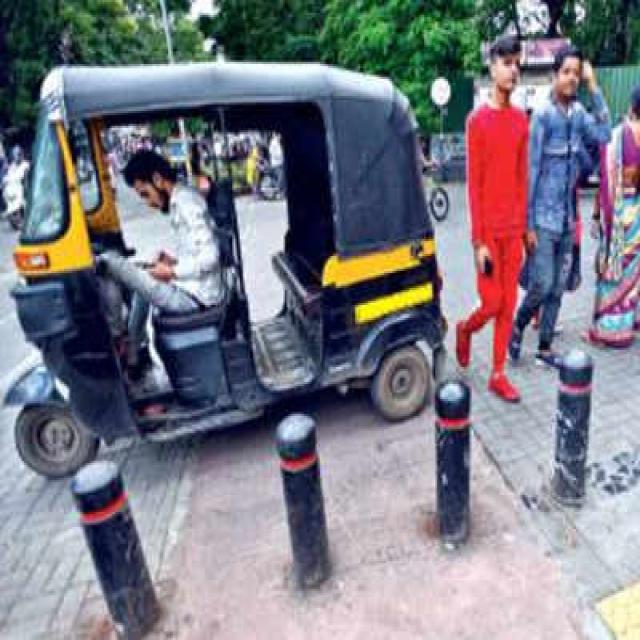autorickshaw: (8, 63, 446, 476)
motorcycle: (2, 145, 30, 229)
